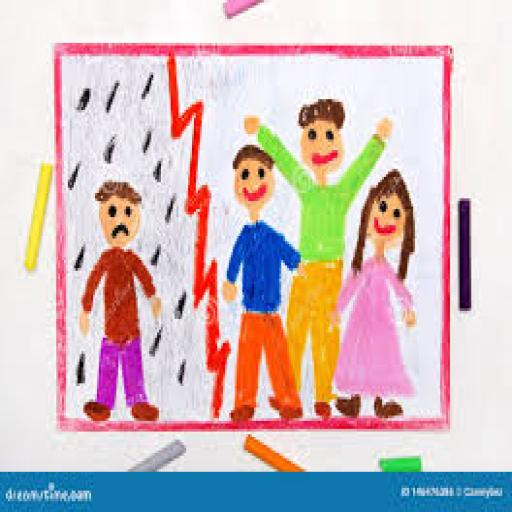person: (246, 68, 397, 423), (70, 176, 167, 427), (220, 142, 300, 421), (334, 166, 420, 420)
